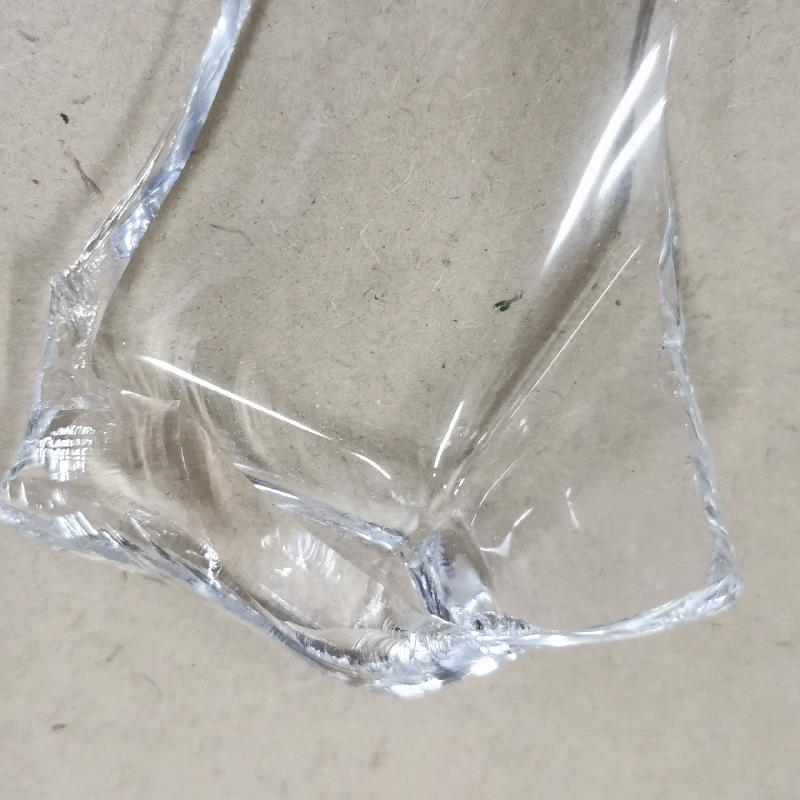glass: (1, 8, 742, 690)
